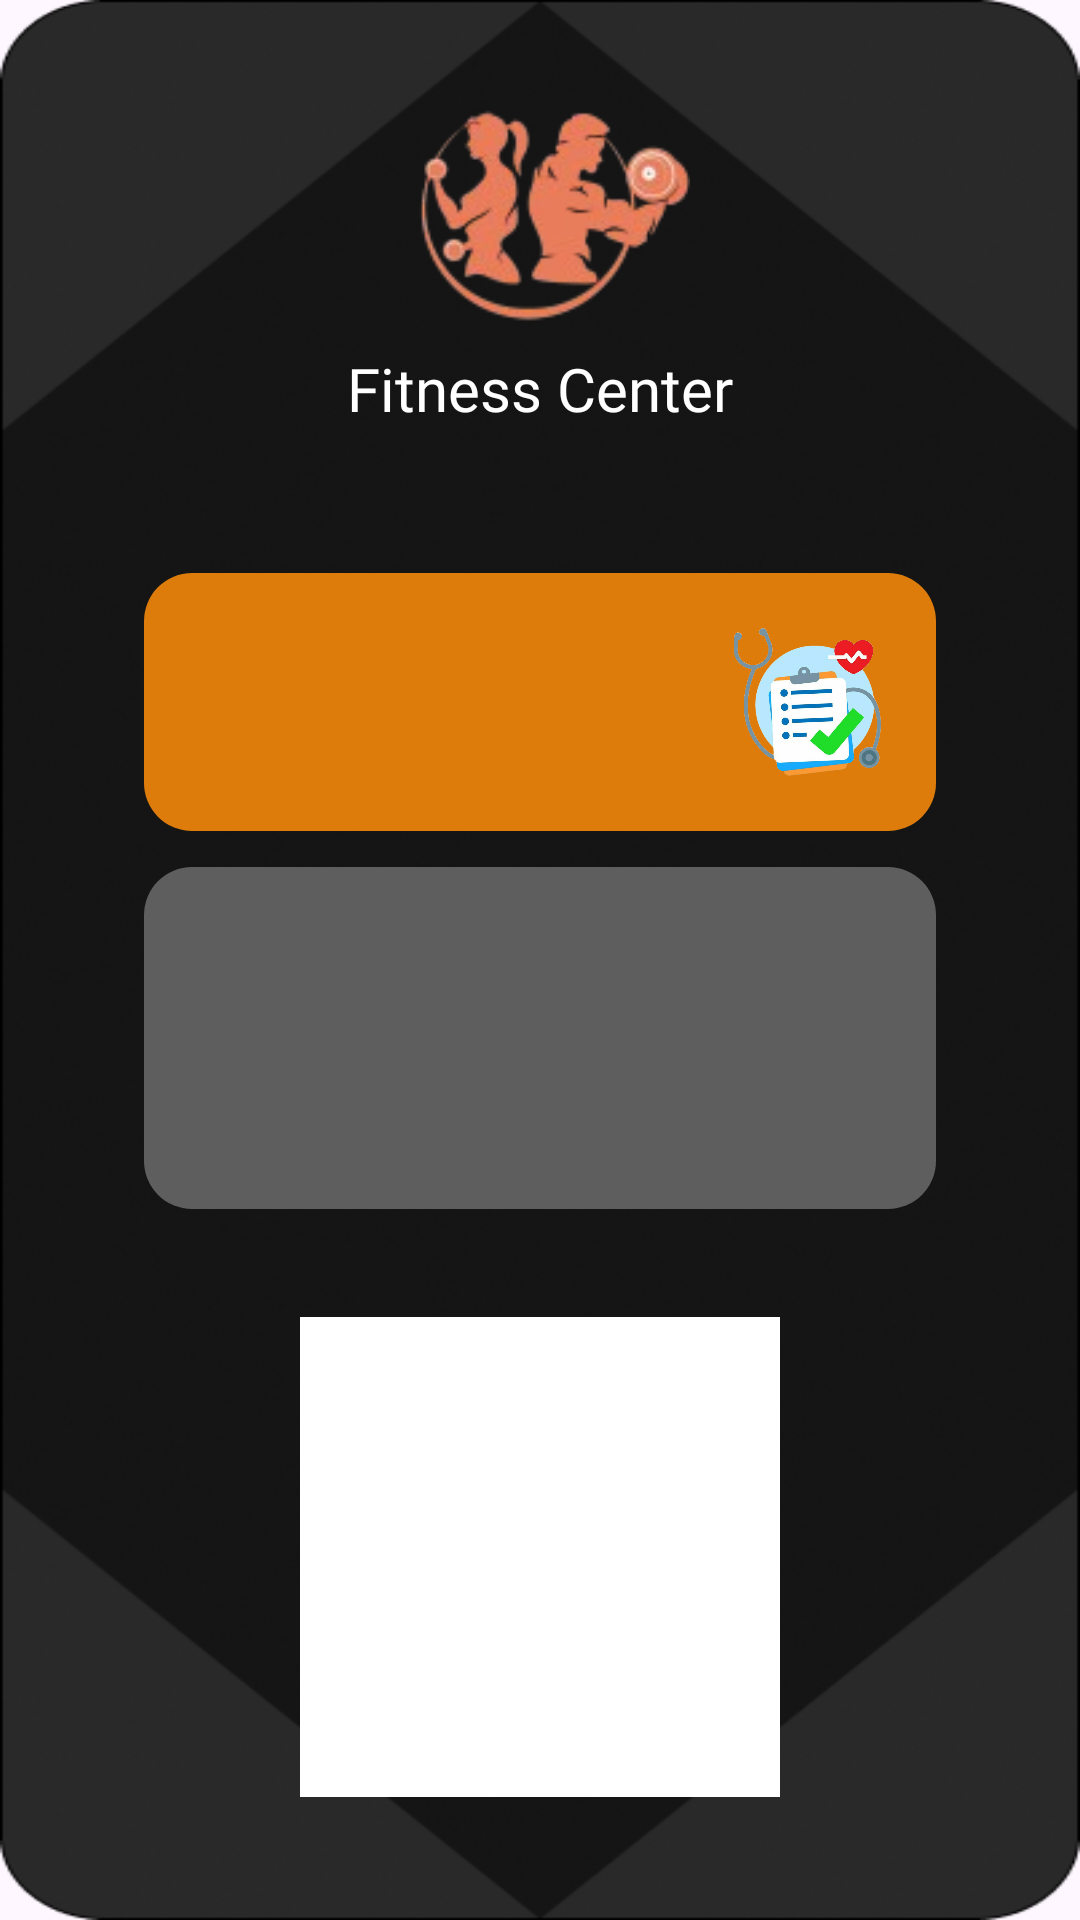

Locate icon controls on the screen. Image size 1080w x 1920h, boxes as (x1, y1, x2, y2).
apto fisico: (734, 628, 881, 776)
